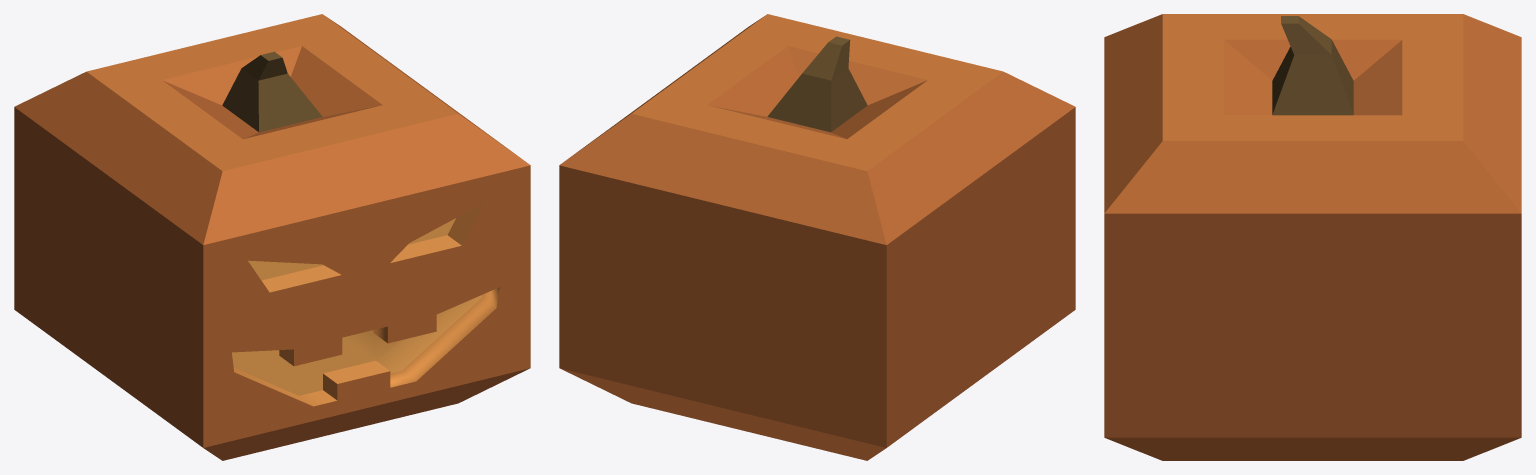
Rendered from SC_Halloween_Pumpkin_01.fbx.
3 renders of one model, left to right at view 1: azimuth 30°, elevation 25°; view 2: azimuth 150°, elevation 25°; view 3: azimuth 270°, elevation 25°, orthographic. The views are drawn at different scales.
Visible parts, largest first — view 1: SC_Halloween_Pumpkin_01; view 2: SC_Halloween_Pumpkin_01; view 3: SC_Halloween_Pumpkin_01.
Part boxes in pixels (left/top/right/bottom): SC_Halloween_Pumpkin_01: left=14, top=14, right=530, bottom=460; SC_Halloween_Pumpkin_01: left=559, top=14, right=1075, bottom=460; SC_Halloween_Pumpkin_01: left=1104, top=14, right=1521, bottom=460.
Bounding box in the file's own units: 1 × 0.9816 × 1.
